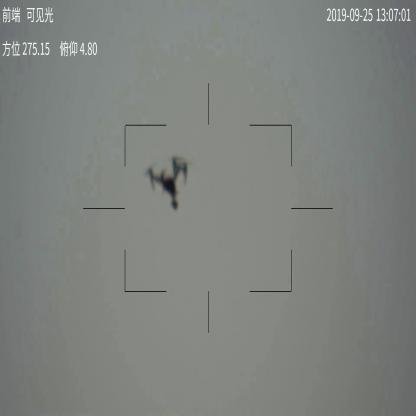uav: (144, 152, 188, 210)
